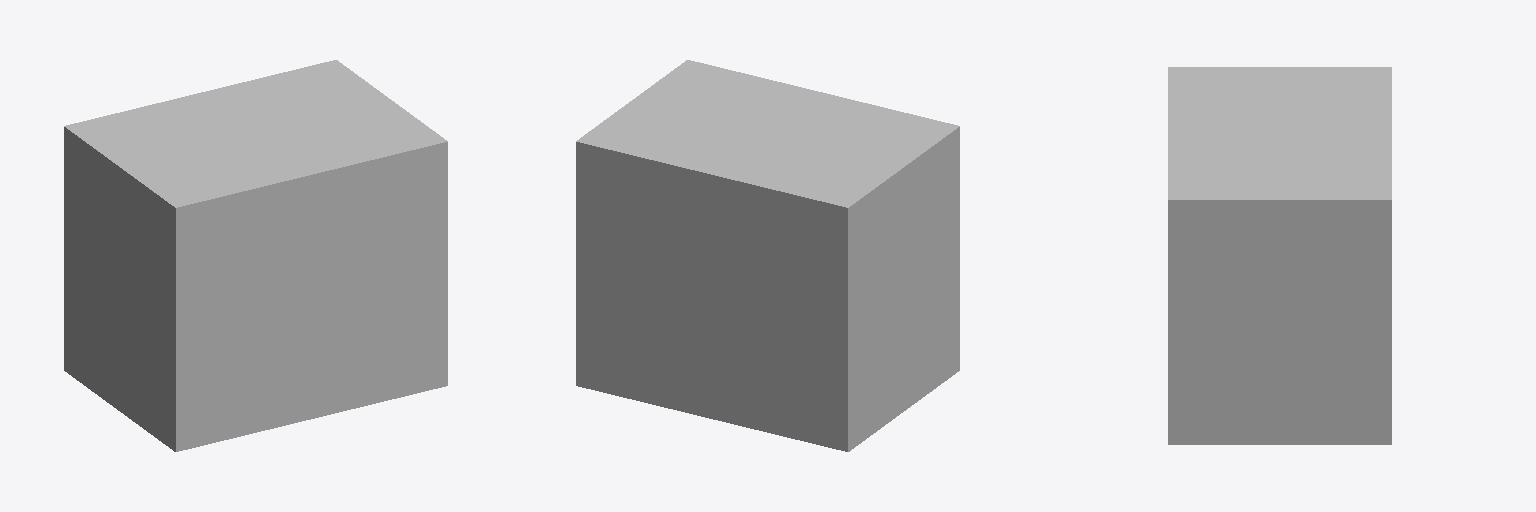
File: simple_cube.obj
3 views of the same model, side by side, from view 1: azimuth 30°, elevation 25°; view 2: azimuth 150°, elevation 25°; view 3: azimuth 270°, elevation 25° (orthographic).
Bounding box in the file's own units: 10.37 × 8.88 × 7.37.